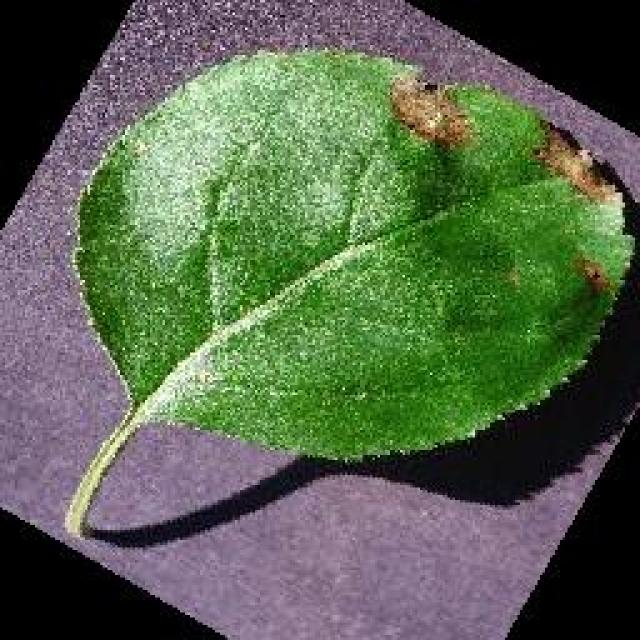Black_rot: (62, 45, 638, 543)
